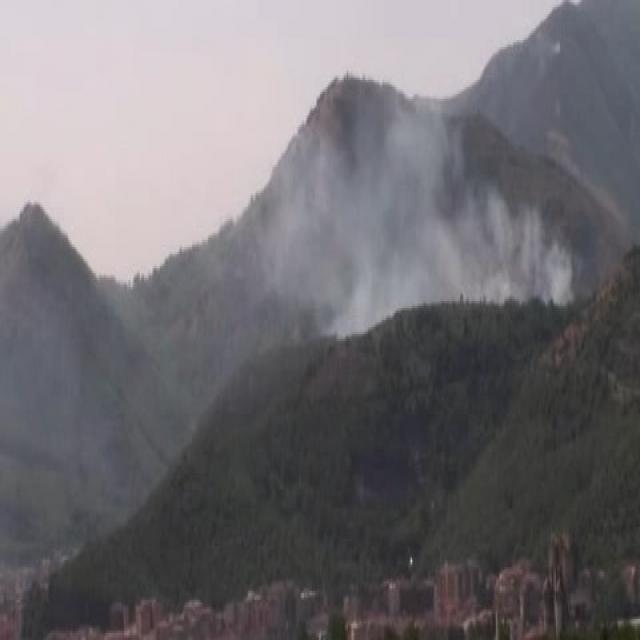smoke: (274, 129, 463, 297)
